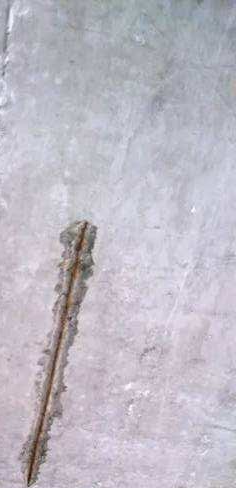Exposed reinforcement: (26, 221, 89, 485)
Spalling: (18, 220, 99, 488)
